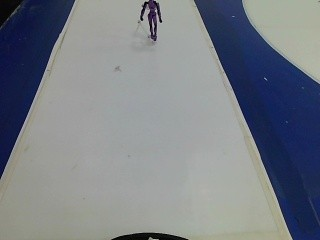pedestrian: (130, 0, 175, 47)
